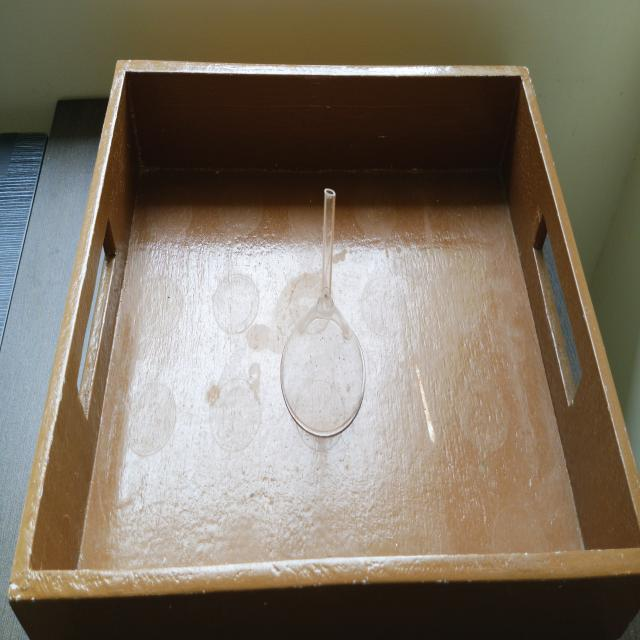funnel: (278, 168, 369, 445)
